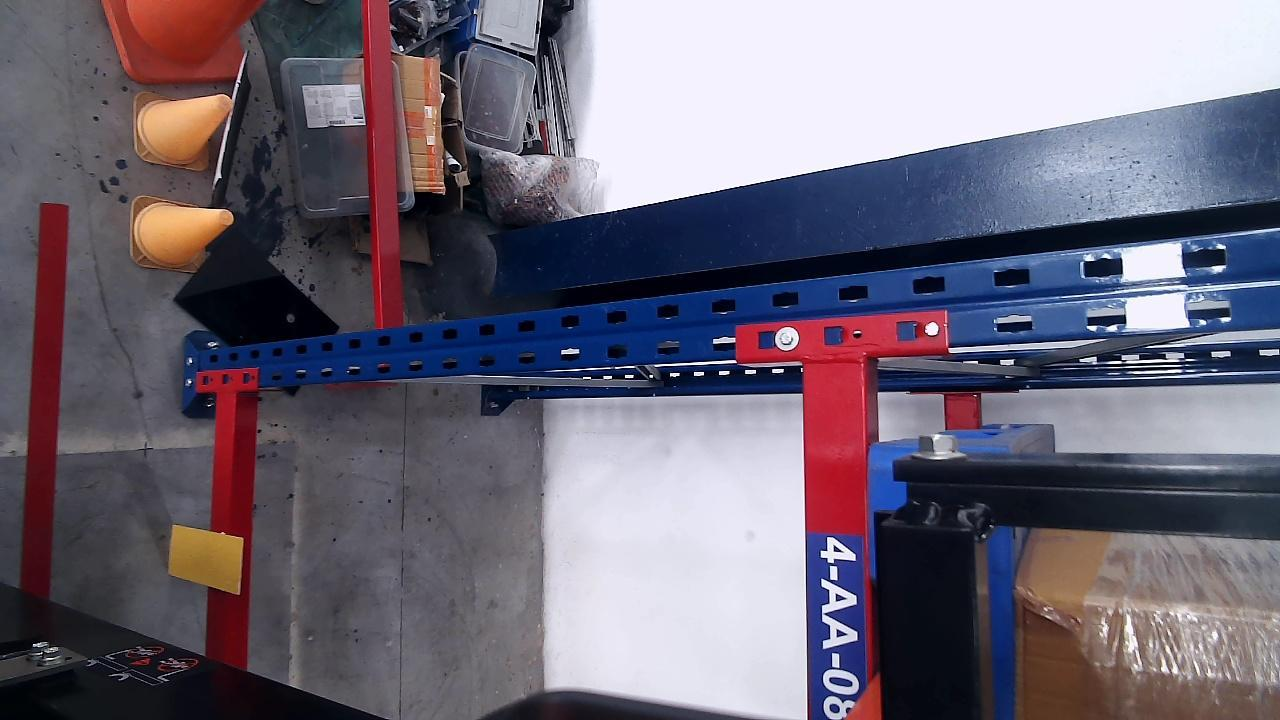h_rack: (802, 359, 879, 720), (209, 391, 234, 665)
orange_strip: (168, 526, 239, 595)
red_line: (22, 205, 69, 599)
